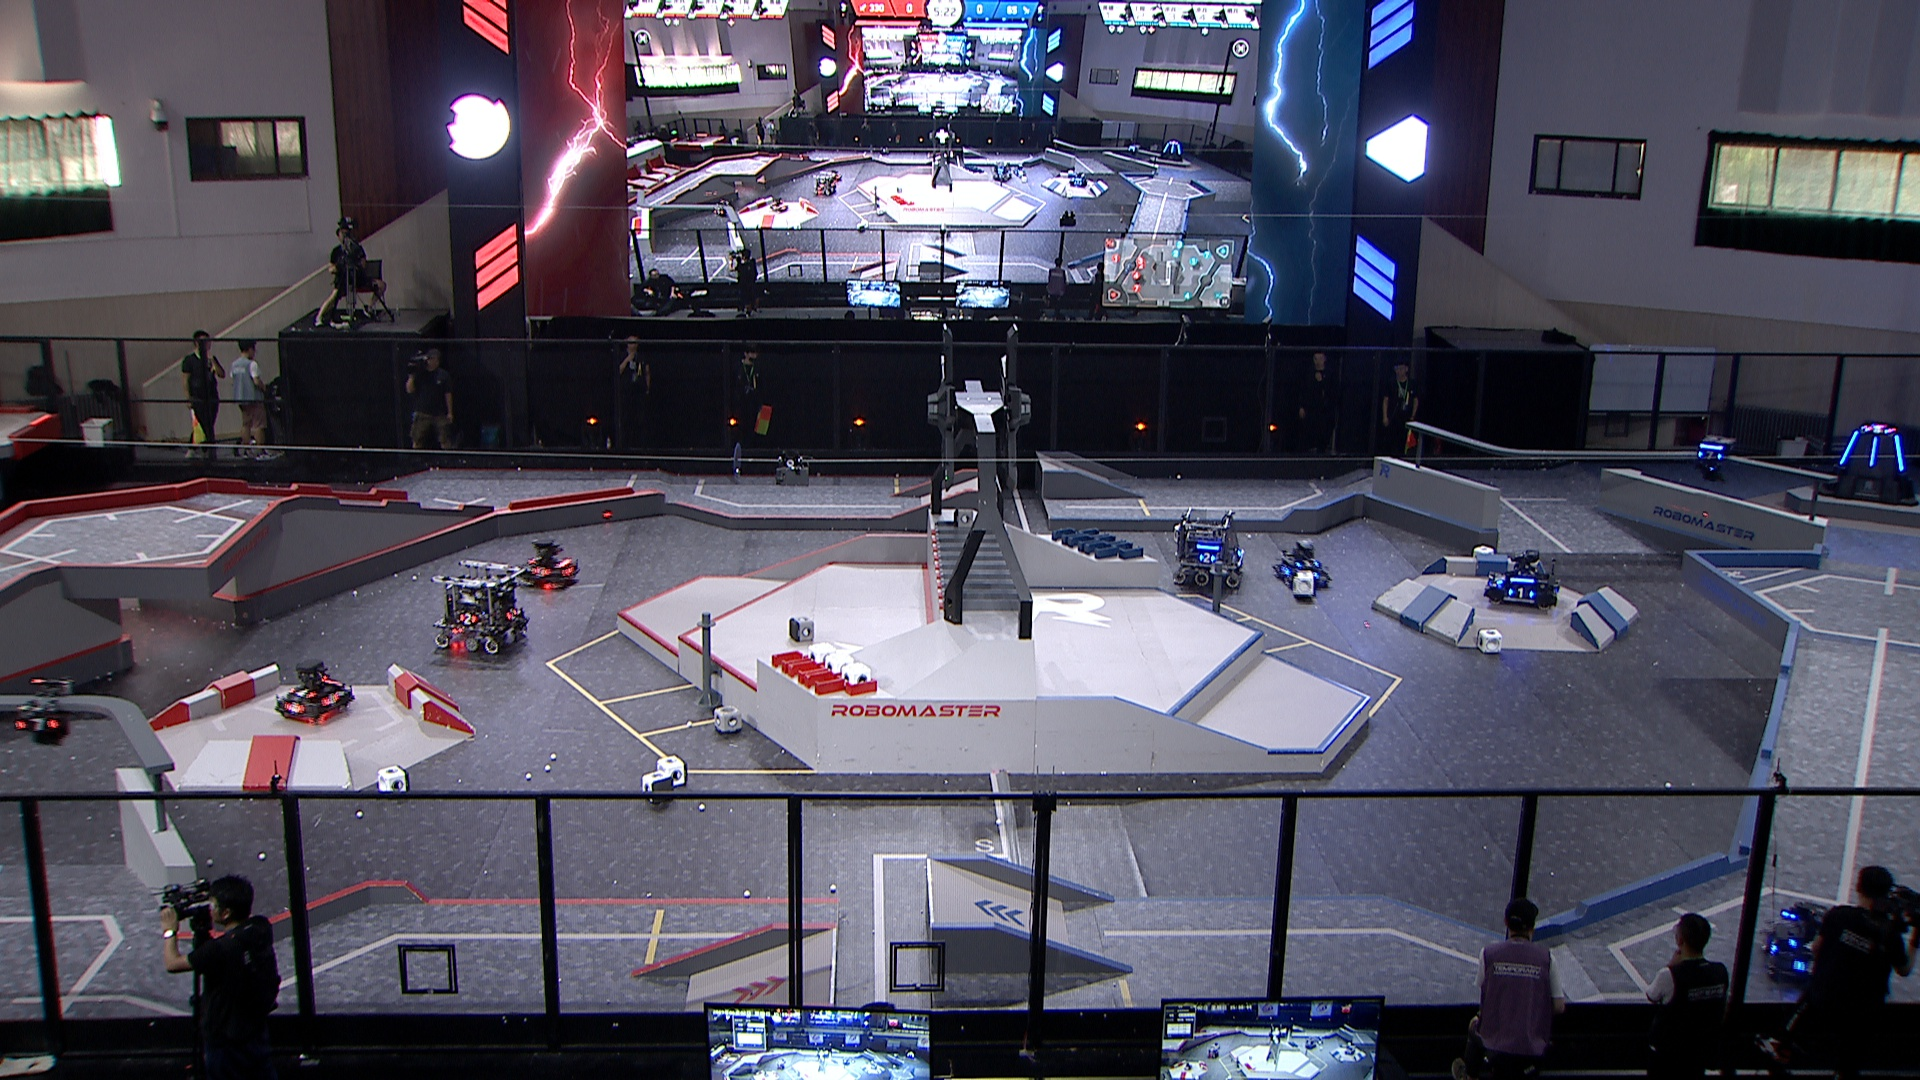armor: (1837, 429, 1859, 465), (16, 716, 61, 732), (1892, 433, 1905, 472), (1792, 956, 1817, 975), (1788, 936, 1818, 951), (1869, 436, 1879, 469), (1506, 588, 1536, 599), (1697, 450, 1724, 462), (320, 692, 340, 708), (458, 611, 477, 626), (282, 700, 305, 713), (502, 605, 518, 622), (289, 688, 318, 698), (531, 564, 551, 578), (1491, 572, 1509, 585), (1199, 551, 1216, 564), (1294, 559, 1320, 567), (1276, 564, 1291, 578), (564, 564, 576, 576)
base: (1815, 419, 1920, 509)
car: (433, 556, 531, 655), (1759, 898, 1851, 989), (1172, 506, 1247, 588), (1484, 546, 1560, 609), (277, 659, 353, 723), (517, 537, 580, 589), (1273, 541, 1333, 589)
ignore: (814, 171, 839, 195), (1160, 138, 1182, 162), (1865, 425, 1890, 434)
watcher: (12, 676, 74, 749), (1691, 433, 1738, 485)
